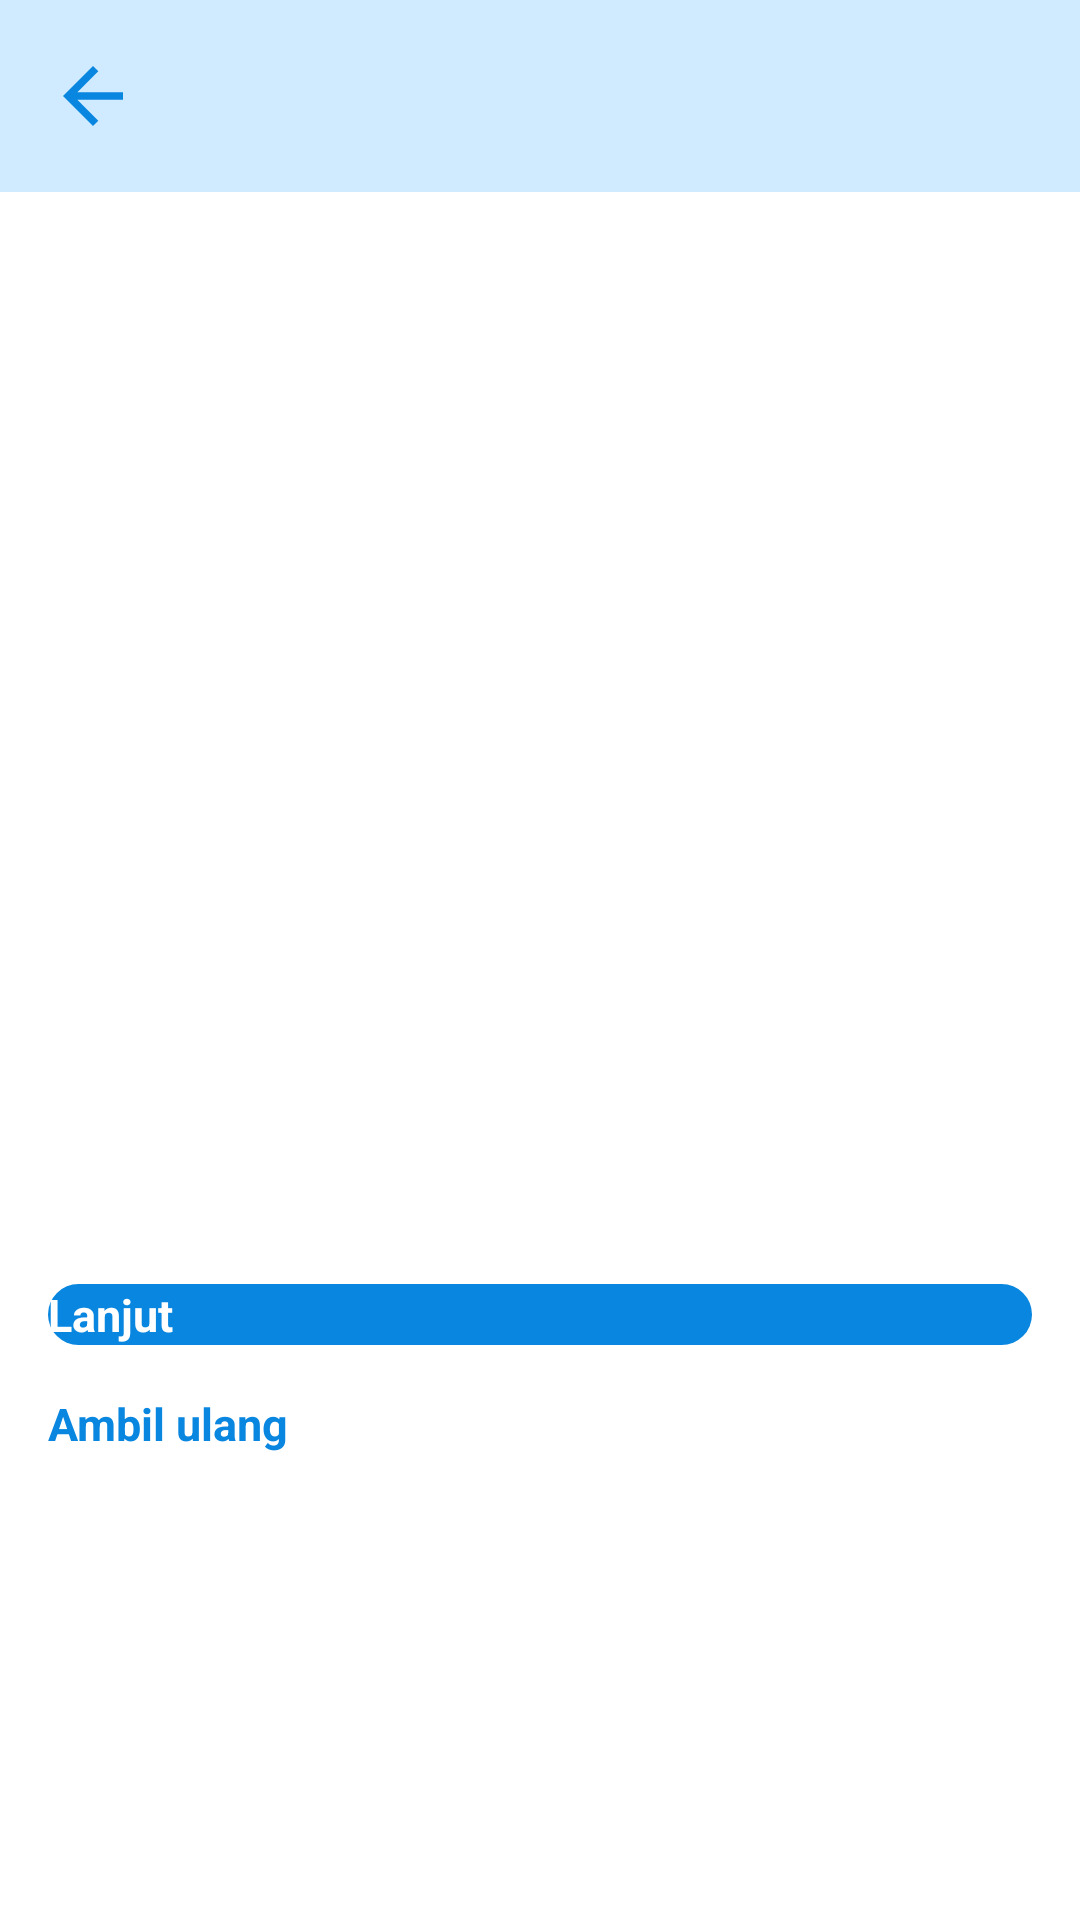

Where icons sit on this 1080*1920 app screen, as (x1, y1, x2, y2):
arrow back: (63, 66, 123, 126)
